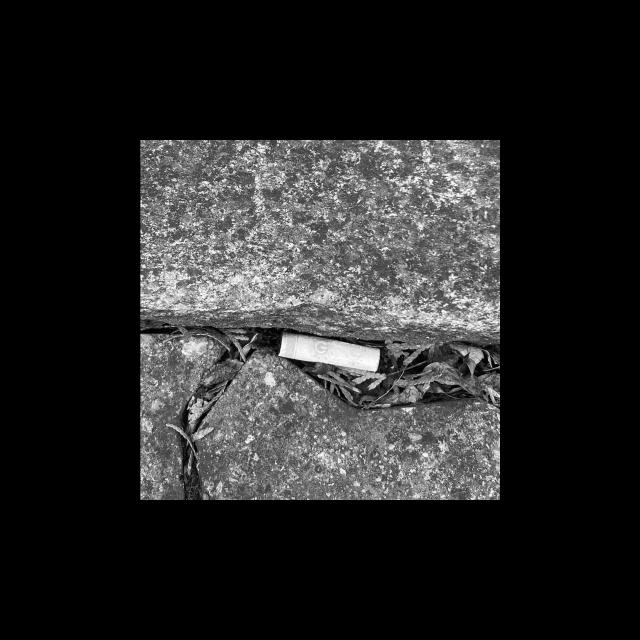cigarette: (275, 331, 381, 374)
